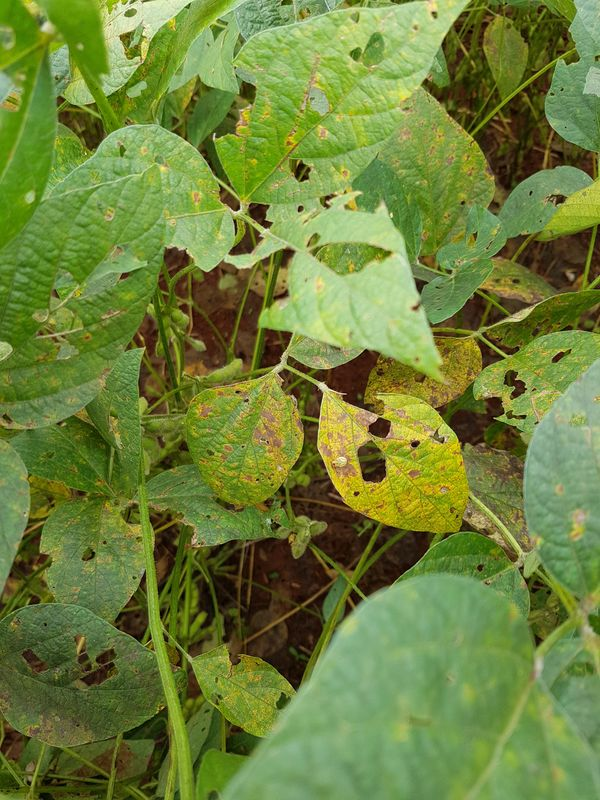Euschistus_heros_ninfa: (328, 452, 351, 474)
